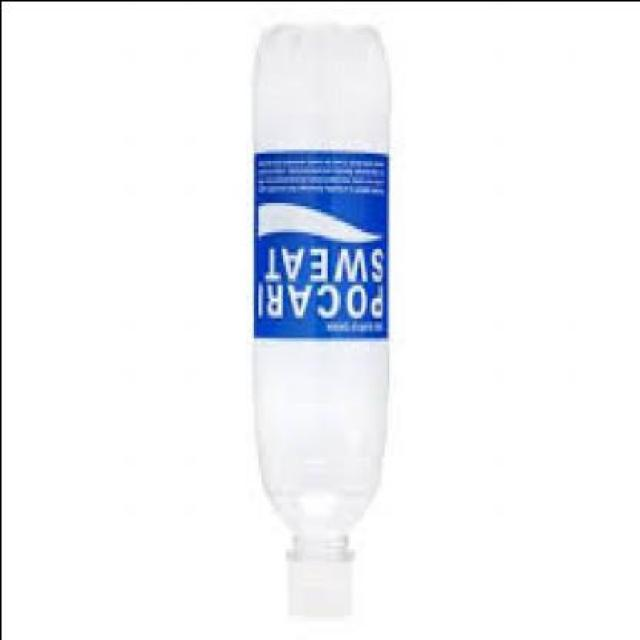PLASTIC: (255, 26, 393, 620), (287, 551, 358, 617)
